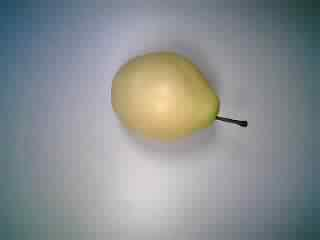pear: (99, 44, 257, 156)
